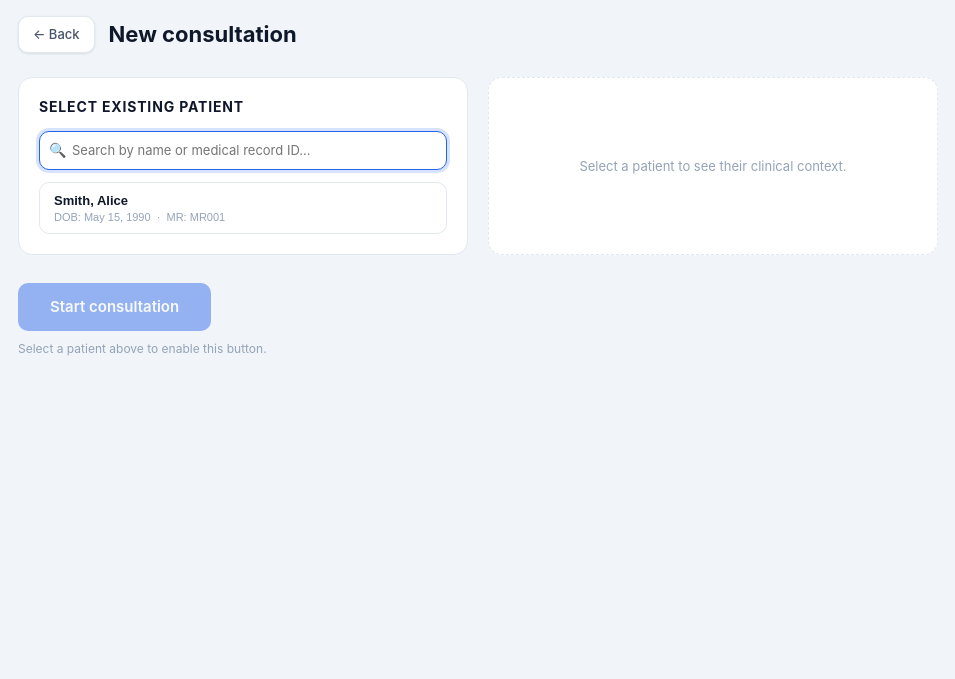
4. "Start consultation" requires consent checkbox › 4a. button enables only after checking consent
Click the text "Smith, Alice" at point(91, 201), box [54,193,128,208]
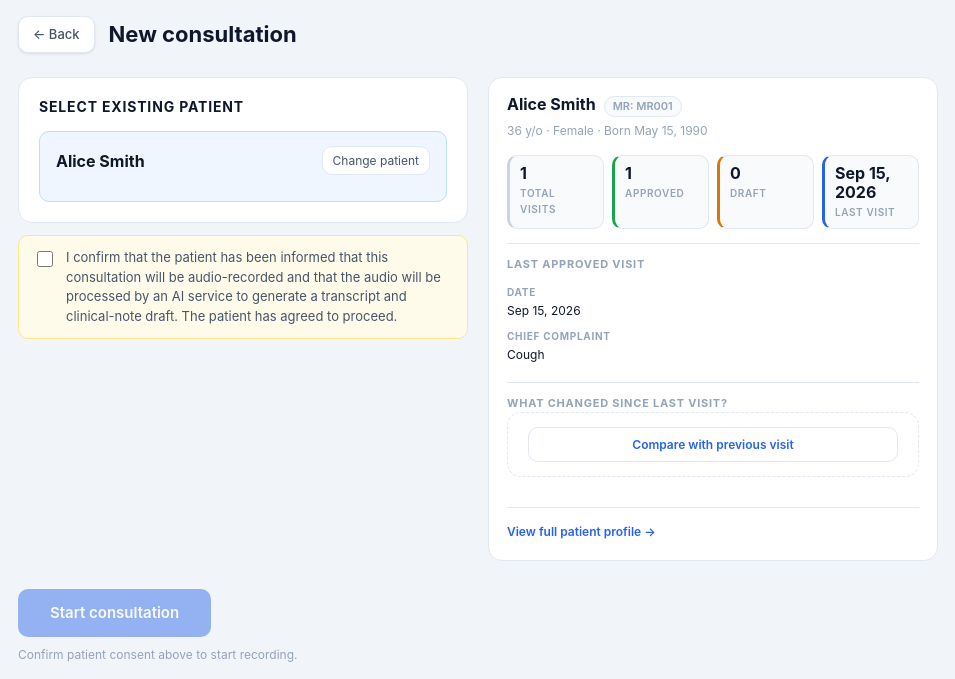
Check: the button "Start consultation" is disabled, box [18,589,211,637]
Check: the heading "Alice Smith" below "Select existing patient" is shown, box [56,151,145,171]
Click the checkbox named "I confirm the patient has consented to recording and AI proc" at point(45, 260), box [37,252,53,268]
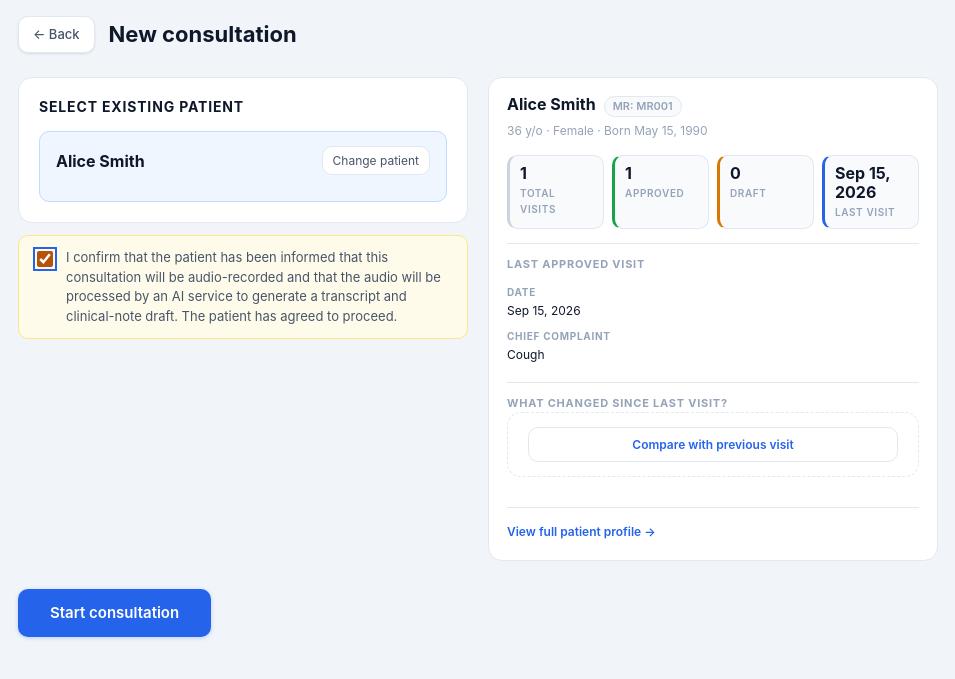
Check: the button "Start consultation" is enabled, box [18,589,211,637]
